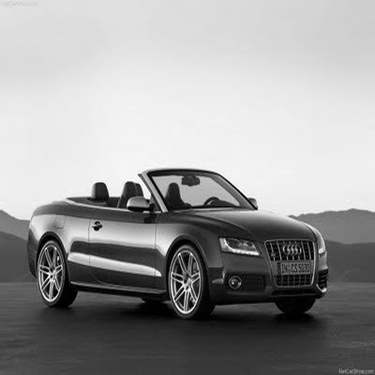car: (24, 161, 334, 328)
